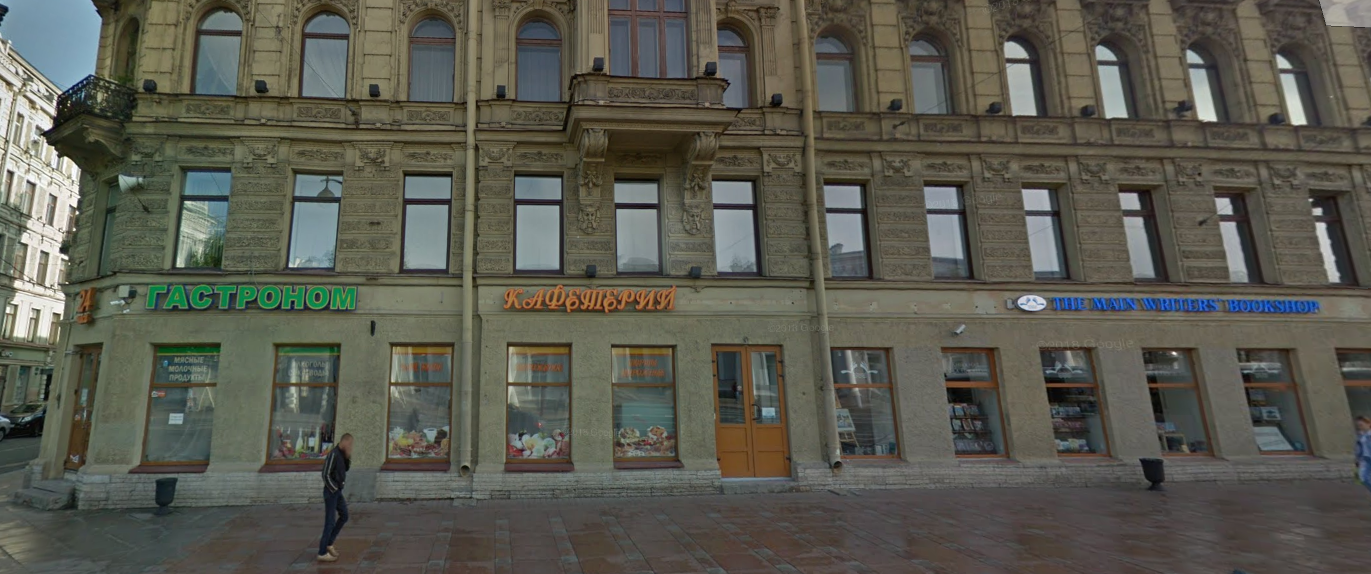door: (713, 346, 782, 473)
signboard: (1008, 289, 1327, 321), (145, 281, 356, 314), (498, 283, 689, 319)
window: (145, 348, 225, 465), (506, 343, 575, 473), (935, 348, 1014, 459), (1239, 349, 1319, 456), (1141, 348, 1215, 460), (1039, 346, 1111, 455), (268, 347, 337, 460), (827, 350, 899, 454), (394, 339, 451, 457), (611, 3, 697, 78), (621, 348, 670, 473), (171, 167, 233, 265), (194, 5, 247, 101), (299, 1, 350, 98), (1092, 38, 1152, 120), (290, 171, 341, 265), (397, 173, 448, 266), (822, 178, 868, 280), (1124, 189, 1174, 280), (908, 25, 956, 117), (922, 186, 972, 273), (515, 11, 563, 101), (616, 183, 661, 277), (1023, 184, 1070, 274), (519, 174, 559, 274), (1216, 196, 1261, 283), (408, 13, 451, 104), (716, 179, 755, 274), (814, 25, 855, 114), (1005, 34, 1046, 122), (718, 19, 755, 109)
